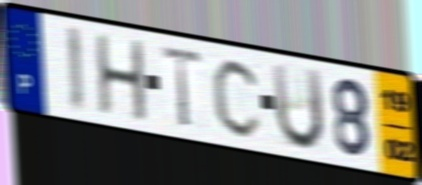8: (330, 74, 373, 160)
C: (210, 55, 264, 140)
H: (93, 31, 150, 125)
I: (63, 22, 86, 116)
T: (160, 42, 205, 130)
U: (270, 60, 327, 154)
